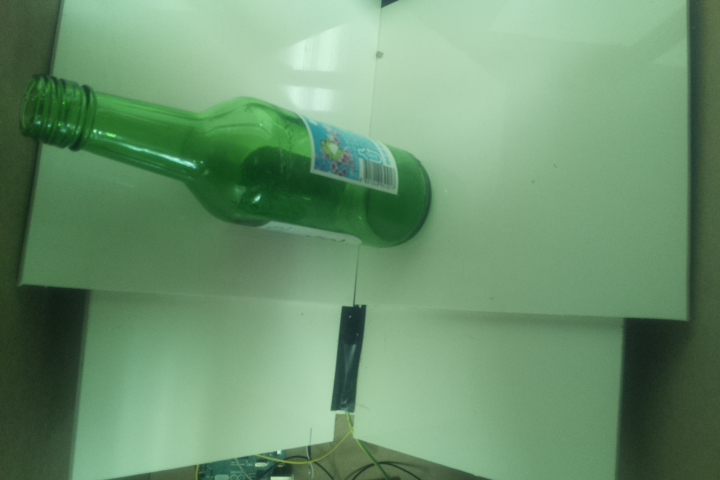soju: (17, 68, 433, 250)
